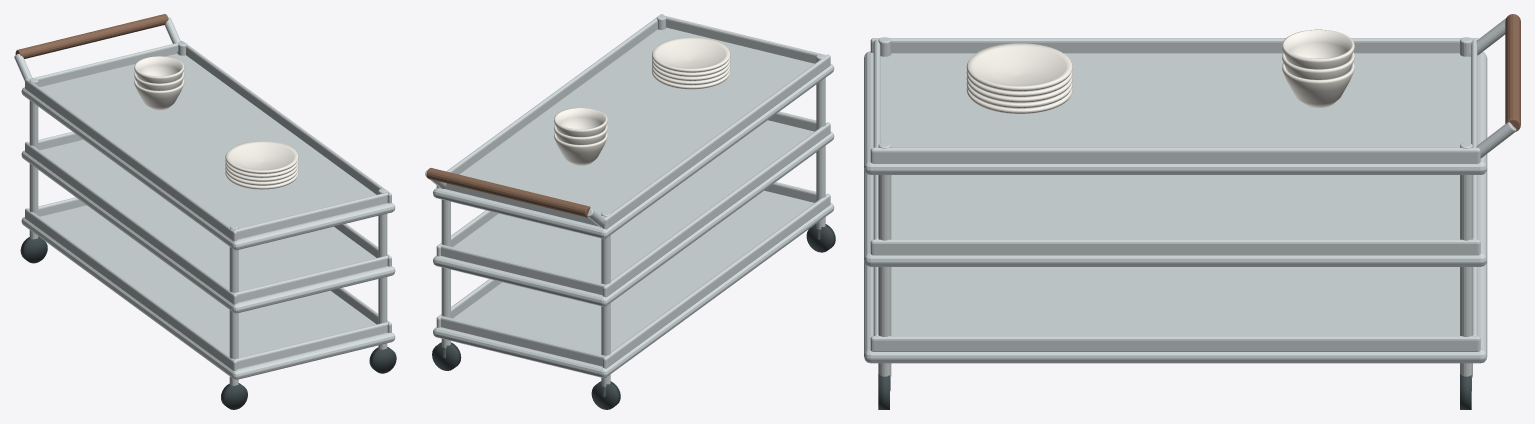
The model's file is ReturnCounter.fbx.
3 views of the same model, side by side, from view 1: azimuth 30°, elevation 25°; view 2: azimuth 150°, elevation 25°; view 3: azimuth 270°, elevation 25° (orthographic). The views are drawn at different scales.
Parts seen in each view (by area): view 1: Open shelf tray.002, Open shelf tray, Open shelf tray.001, Tray rim.002, Tray rim, Tray rim.004, Tray rim.005, Ceramic rolled rim plate.004, Push grip, Tray end rim.004, Tray end rim, Tray end rim.002 (+14 smaller); view 2: Open shelf tray.002, Open shelf tray, Open shelf tray.001, Tray rim.002, Tray rim, Tray rim.004, Tray rim.005, Ceramic rolled rim plate.004, Push grip, Tray end rim.001, Tray end rim.003, Tray end rim.004 (+18 smaller); view 3: Open shelf tray.002, Open shelf tray, Open shelf tray.001, Tray rim.003, Tray rim.005, Tray rim.001, Tray rim.004, Ceramic rolled rim plate.004, Hollow bowl.002, Tubular upright.002, Tubular upright.003, Push grip (+8 smaller).
Boxes of the visible parts, <box> form: Open shelf tray.002: <box>21,53,395,250</box>; Open shelf tray: <box>21,205,395,379</box>; Open shelf tray.001: <box>21,139,395,313</box>; Tray rim.002: <box>25,142,237,304</box>; Tray rim: <box>25,208,237,370</box>; Tray rim.004: <box>25,78,237,241</box>; Tray rim.005: <box>180,41,391,203</box>; Ceramic rolled rim plate.004: <box>225,141,298,173</box>; Push grip: <box>15,14,168,58</box>; Tray end rim.004: <box>234,192,387,239</box>; Tray end rim: <box>234,322,387,368</box>; Tray end rim.002: <box>235,255,387,302</box>; Open shelf tray.002: <box>433,27,834,238</box>; Open shelf tray: <box>433,190,834,377</box>; Open shelf tray.001: <box>433,120,834,306</box>; Tray rim.002: <box>602,122,830,297</box>; Tray rim: <box>602,193,830,368</box>; Tray rim.004: <box>603,54,830,229</box>; Tray rim.005: <box>436,14,664,188</box>; Ceramic rolled rim plate.004: <box>652,37,730,72</box>; Push grip: <box>426,168,590,217</box>; Tray end rim.001: <box>441,316,605,366</box>; Tray end rim.003: <box>441,244,605,295</box>; Tray end rim.004: <box>662,15,825,63</box>; Open shelf tray.002: <box>864,51,1487,174</box>; Open shelf tray: <box>864,261,1487,363</box>; Open shelf tray.001: <box>864,169,1487,266</box>; Tray rim.003: <box>870,239,1480,255</box>; Tray rim.005: <box>870,147,1480,163</box>; Tray rim.001: <box>870,336,1480,351</box>; Tray rim.004: <box>870,38,1479,53</box>; Ceramic rolled rim plate.004: <box>966,43,1072,91</box>; Hollow bowl.002: <box>1282,29,1354,69</box>; Tubular upright.002: <box>878,142,891,377</box>; Tubular upright.003: <box>1460,142,1472,377</box>; Push grip: <box>1505,14,1520,131</box>.
Size of the model in its own units: 111 by 132 by 253.
